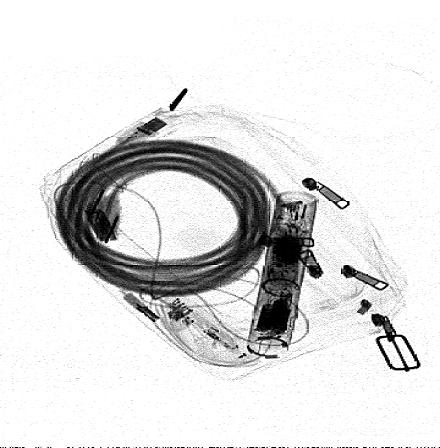Baton: (247, 189, 319, 359)
